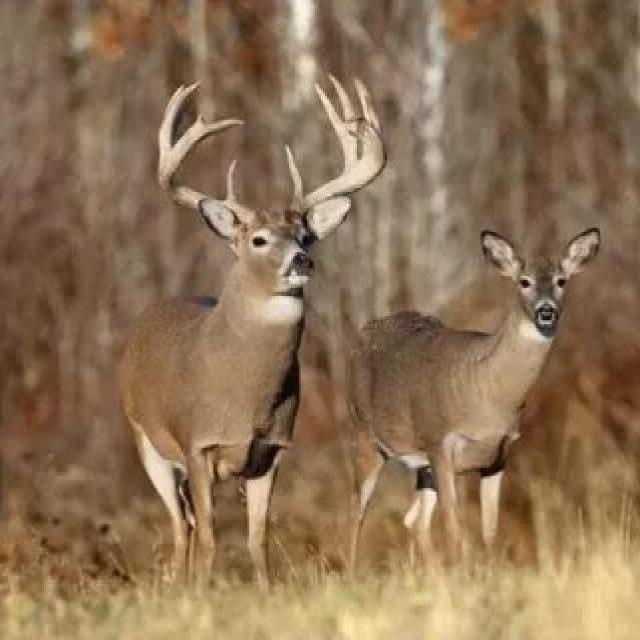deer: (108, 130, 384, 585), (306, 219, 594, 506)
